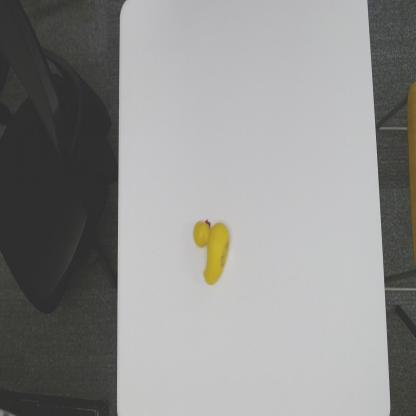Duck: (191, 215, 233, 286)
